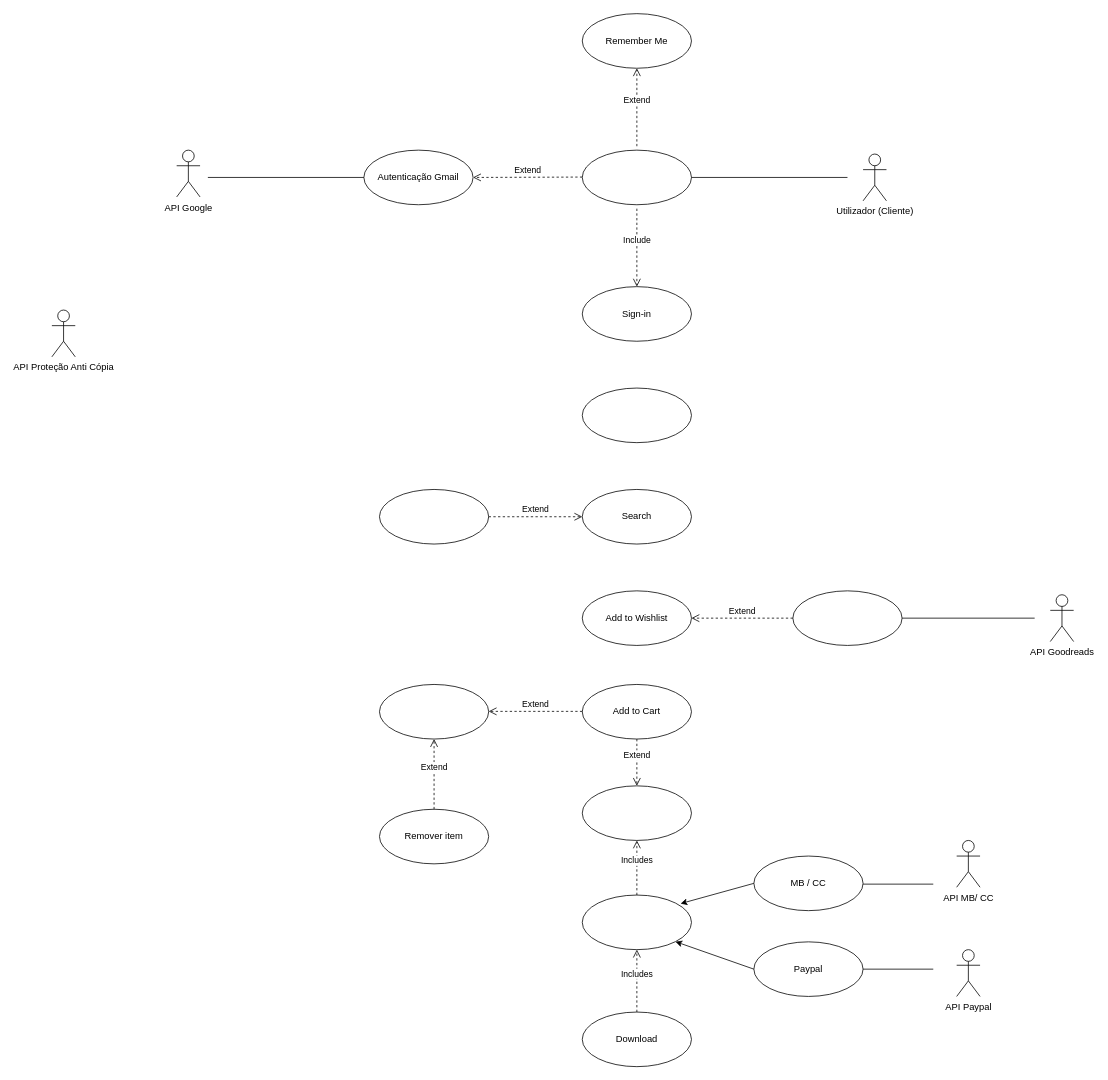
Some shapes in this 1108 by 1080 pixel diagram are drawn without their labels. Here are the shapes that lost their labels. From the top down, the centre of each, then its label:
pixel 636 177: Autenticação Email
pixel 636 415: Browse
pixel 434 516: Filtrar
pixel 847 617: Sincroniza c/ Goodreads
pixel 434 711: Check Cart
pixel 636 812: Checkout
pixel 636 922: Payment
